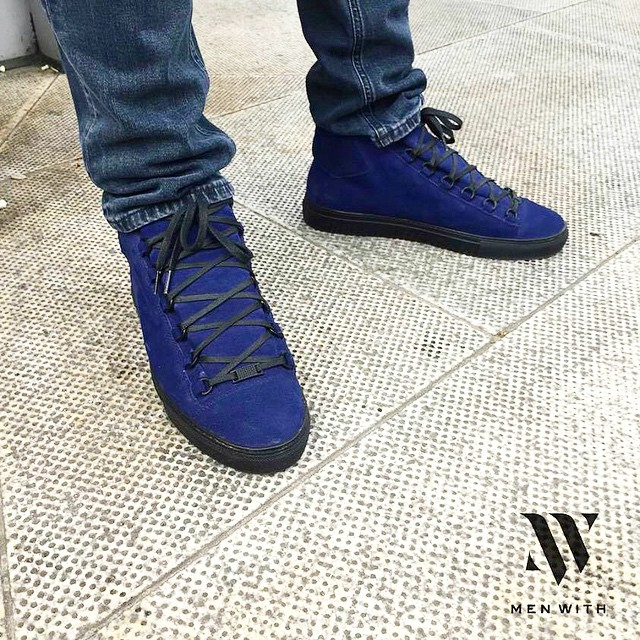sneaker: (76, 170, 346, 501), (279, 88, 590, 283)
